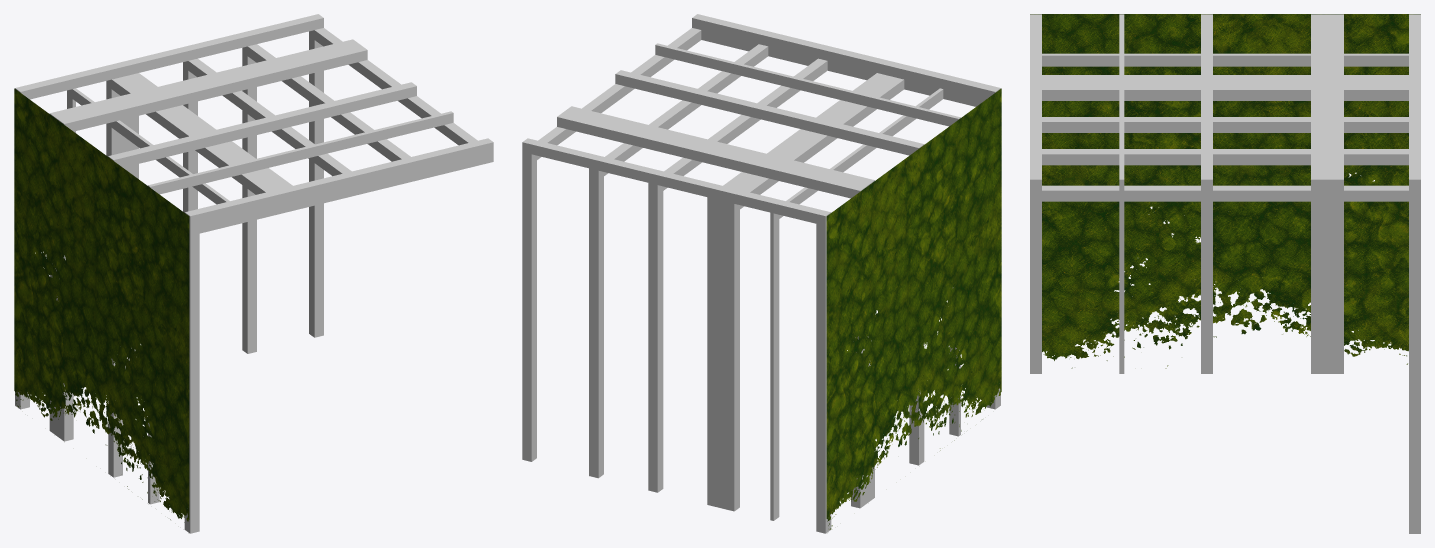
The model's file is Mesh_Nor_Unbuilt.fbx.
The picture shows the model from 3 angles, left to right: view 1: azimuth 30°, elevation 25°; view 2: azimuth 150°, elevation 25°; view 3: azimuth 270°, elevation 25°; orthographic projection. The views are drawn at different scales.
Visible parts, largest first — view 1: Mesh_UnbuiltCube, Mesh_UnbuiltPlants; view 2: Mesh_UnbuiltCube, Mesh_UnbuiltPlants; view 3: Mesh_UnbuiltPlants, Mesh_UnbuiltCube.
Boxes of the visible parts, x1,y1,x2,y2 form: Mesh_UnbuiltCube: [15, 14, 493, 533]; Mesh_UnbuiltPlants: [14, 88, 189, 522]; Mesh_UnbuiltCube: [522, 14, 1000, 533]; Mesh_UnbuiltPlants: [826, 88, 1001, 529]; Mesh_UnbuiltPlants: [1030, 14, 1420, 368]; Mesh_UnbuiltCube: [1030, 14, 1420, 533].
Bounding box in the file's own units: 80.2 × 80 × 80.
